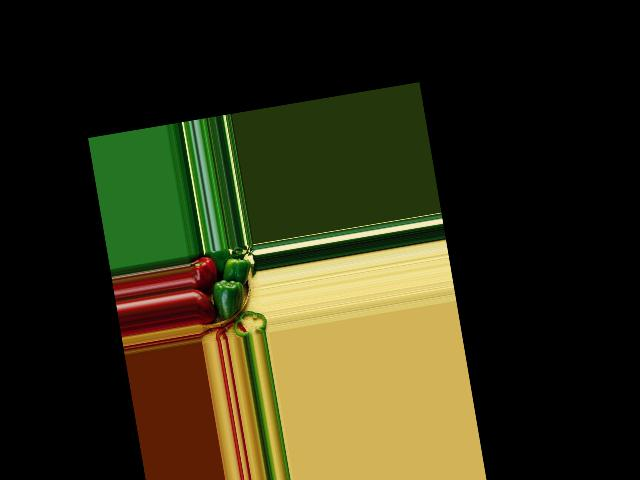bell_pepper: (193, 285, 216, 325)
